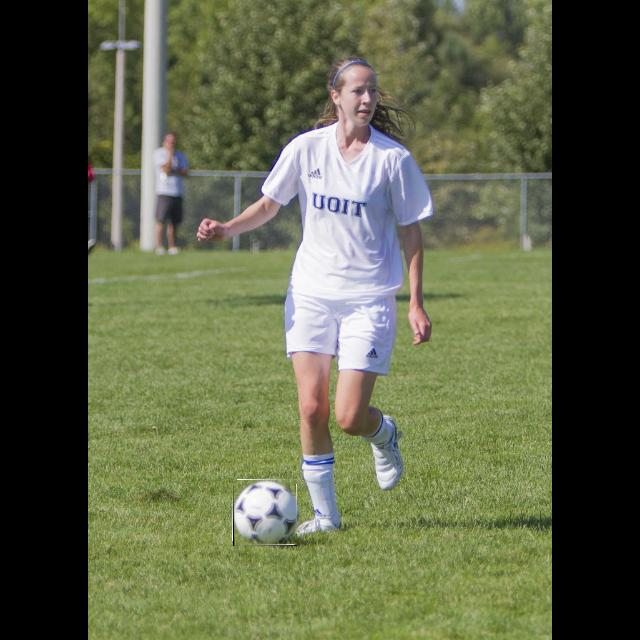Football: (233, 480, 297, 546)
